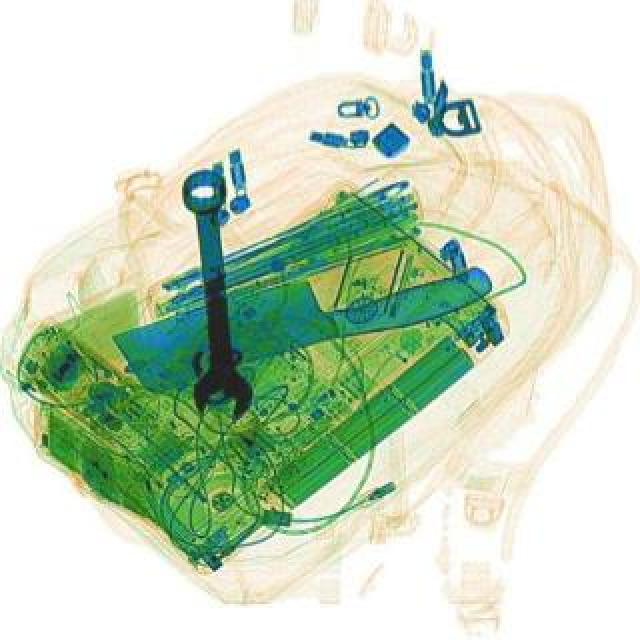knife: (110, 226, 498, 408)
scissors: (178, 164, 254, 422)
